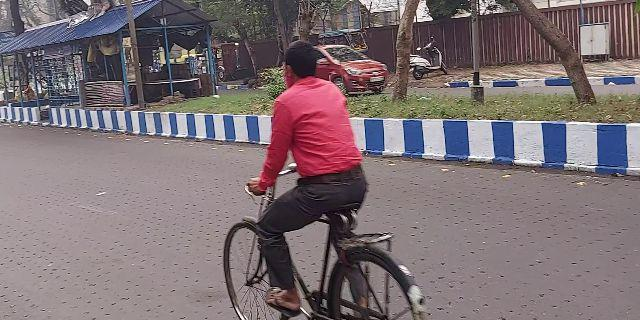Car: (318, 39, 390, 90)
Cycle: (209, 39, 424, 320)
